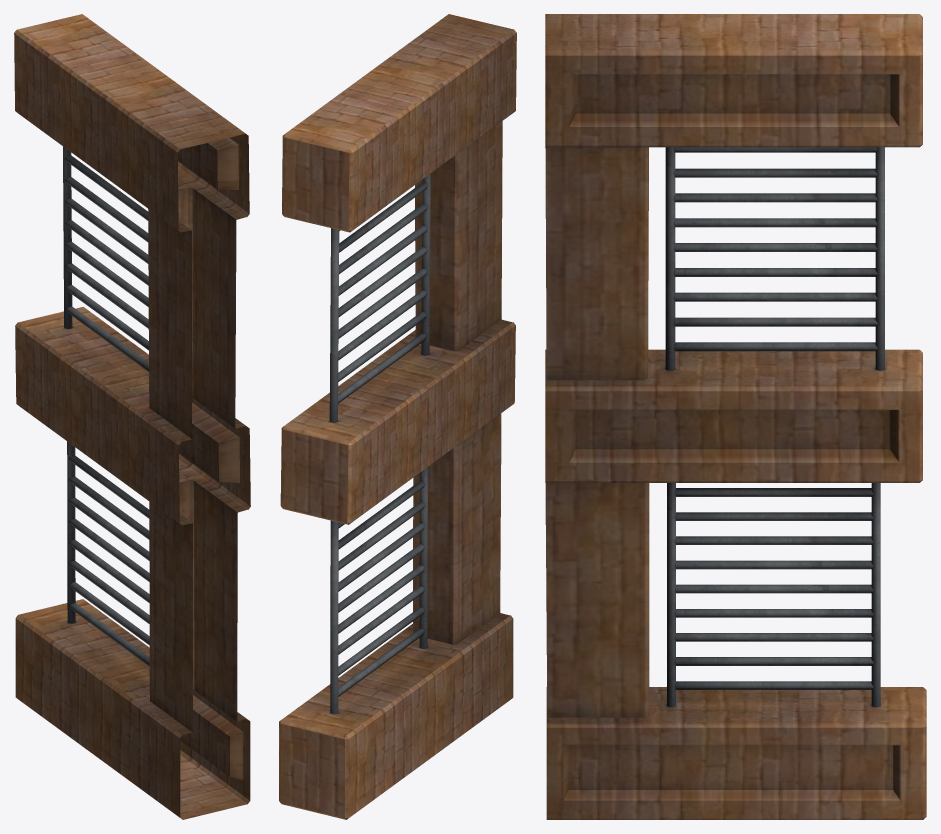
Rendered from wall01.fbx.
3 renders of one model, left to right at view 1: azimuth 30°, elevation 25°; view 2: azimuth 150°, elevation 25°; view 3: azimuth 270°, elevation 25°, orthographic. The views are drawn at different scales.
Parts seen in each view (by area): view 1: wall01; view 2: wall01; view 3: wall01.
Boxes of the visible parts, left/top/right/bottom form: wall01: left=14, top=14, right=250, bottom=819; wall01: left=279, top=14, right=516, bottom=819; wall01: left=545, top=14, right=926, bottom=819.
Size of the model in its own units: 102 by 893 by 402.
